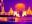Hotspot: (16, 3, 25, 10), (14, 11, 20, 17), (22, 11, 27, 16)
